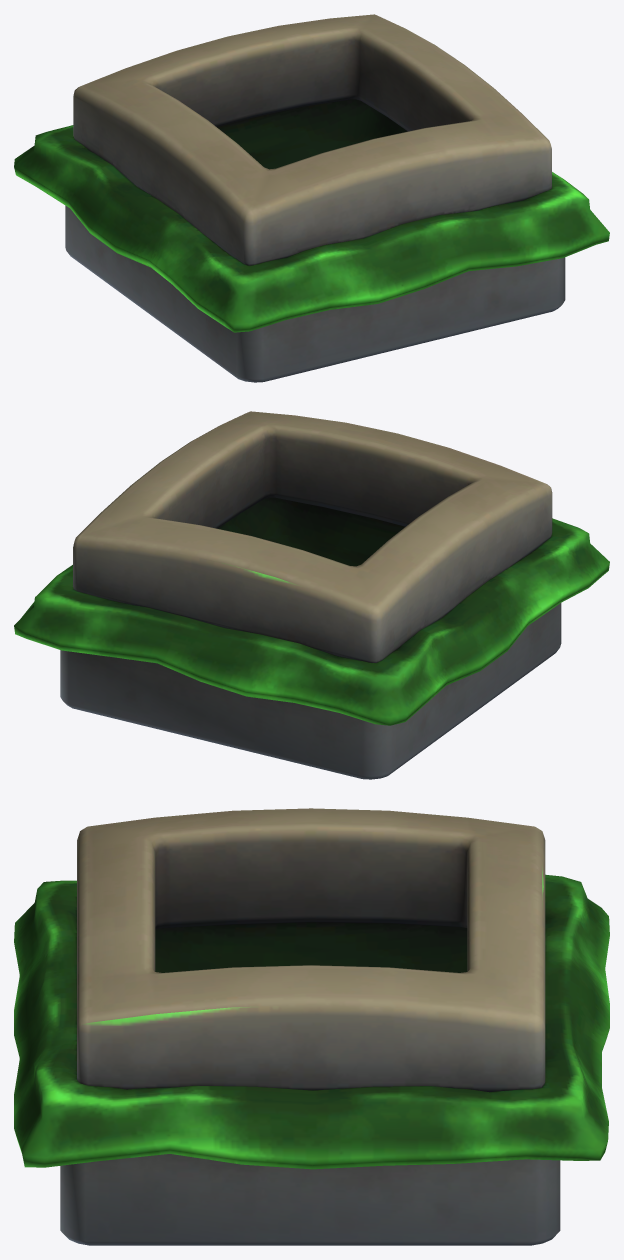
Rendered from Waste_Bin.fbx.
3 renders of one model, top to bottom at view 1: azimuth 30°, elevation 25°; view 2: azimuth 150°, elevation 25°; view 3: azimuth 270°, elevation 25°, orthographic. The views are drawn at different scales.
Parts seen in each view (by area): view 1: Mesh.024; view 2: Mesh.024; view 3: Mesh.024.
Part boxes in pixels (x1,y1,x2,y2): Mesh.024: (14,14,609,382); Mesh.024: (14,411,609,779); Mesh.024: (14,808,609,1245).
Size of the model in its own units: 121 by 54.9 by 121.
